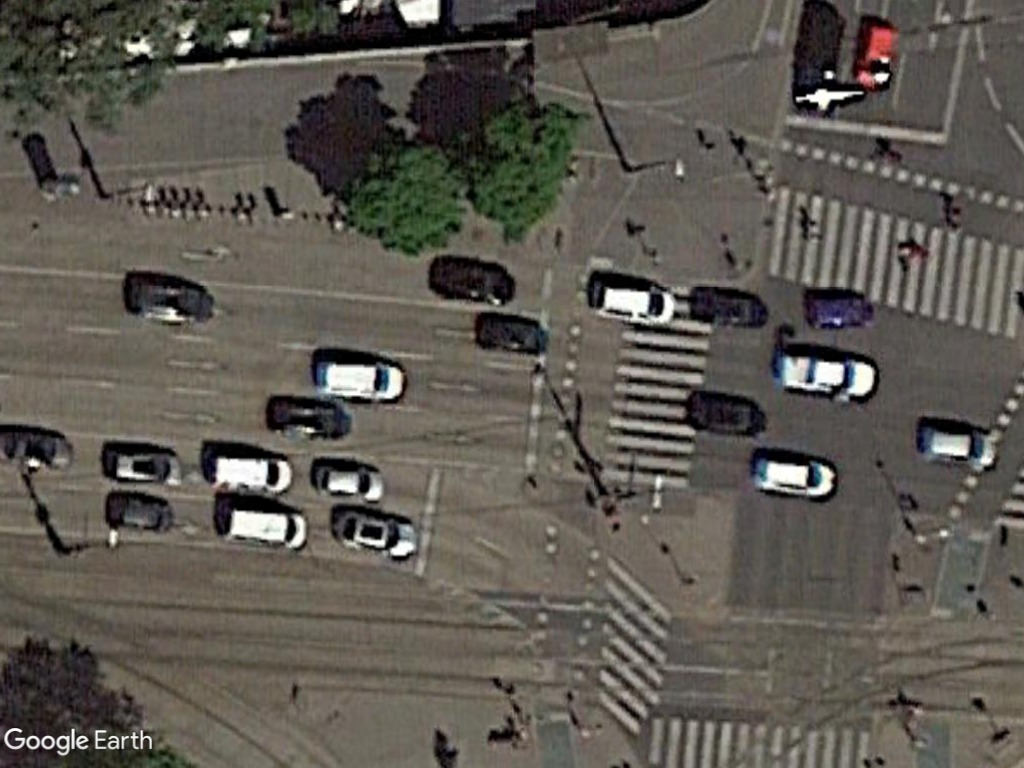car: (775, 348, 881, 403), (310, 355, 412, 405), (329, 509, 421, 564), (590, 275, 680, 331), (753, 452, 842, 505), (915, 421, 1000, 470), (104, 444, 190, 490), (315, 461, 388, 503)
van: (217, 506, 310, 553), (206, 452, 295, 494)
